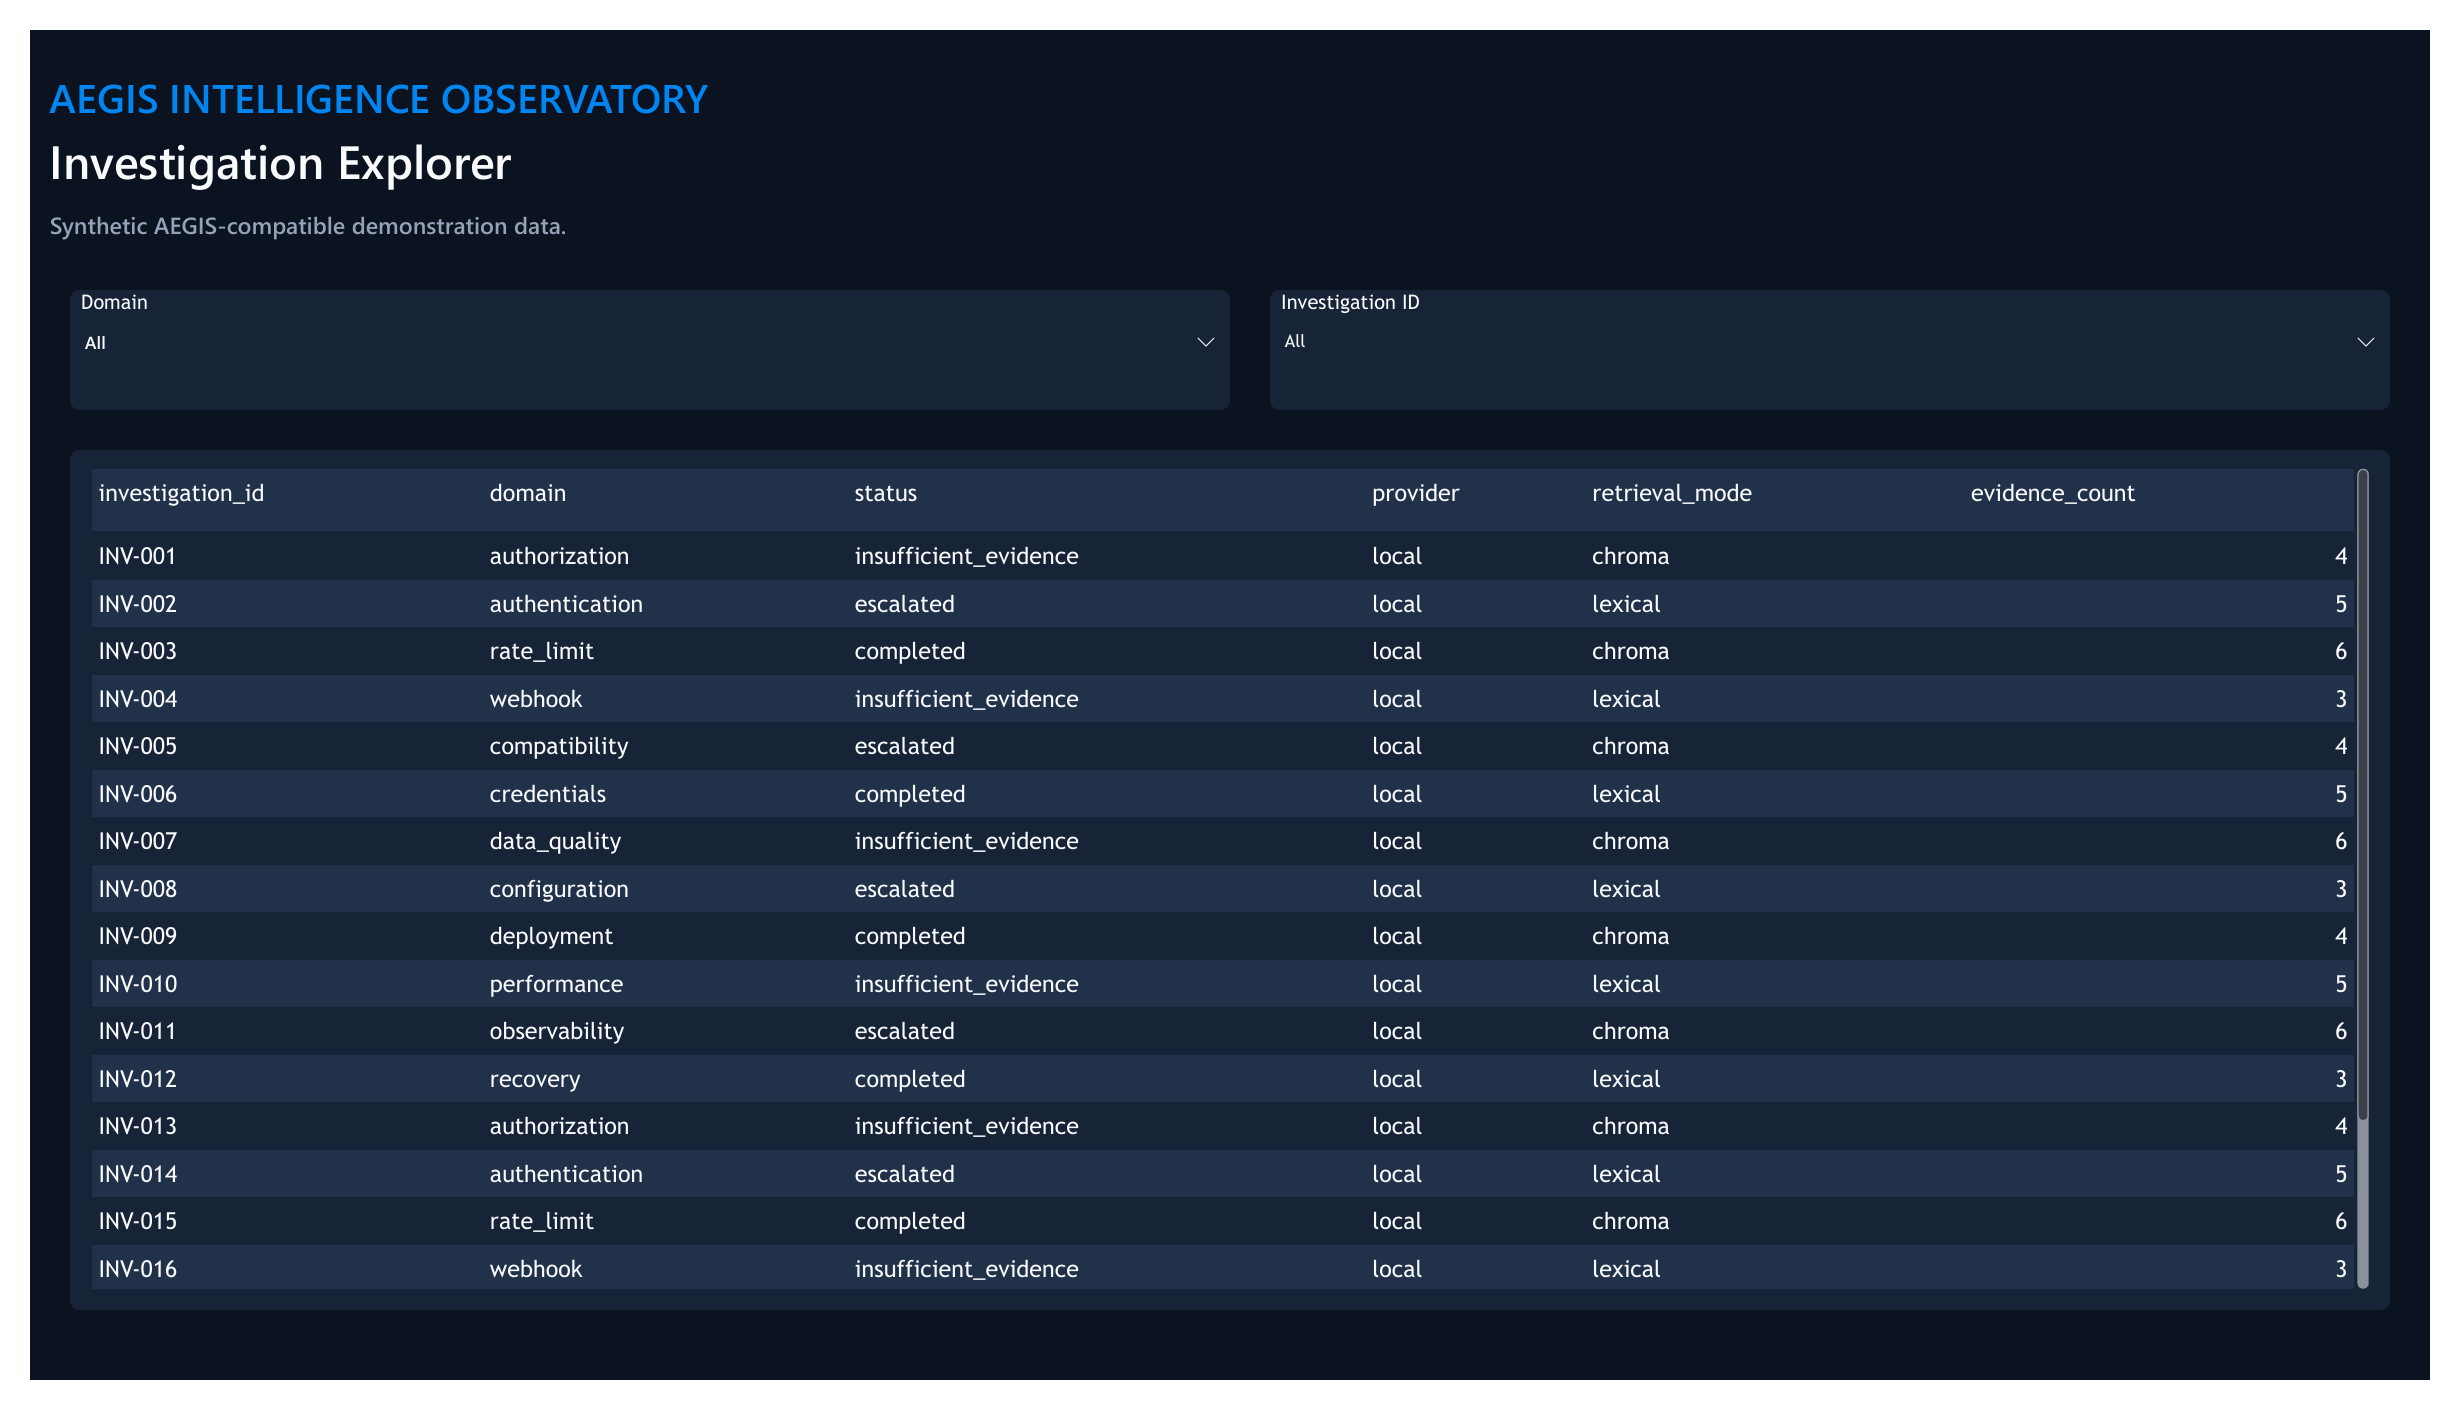

Layout of this report page (visuals, bound fields, positions):
{"tool":"powerbi","page":{"name":"Investigation Explorer","canvas":[1920,1080],"ordinal":3},"visuals":[{"type":"textbox","box":[16,32,544,48],"z":0},{"type":"textbox","box":[16,144,416,32],"z":1000},{"type":"textbox","box":[16,80,448,64],"z":2000},{"type":"slicer","fields":{"Values":["investigations.investigation_id"]},"box":[992,208,896,96],"z":3000},{"type":"slicer","fields":{"Values":["scenarios.domain"]},"box":[32,208,928,96],"z":4000},{"type":"tableEx","title":"Investigation by Retrieval Mode","fields":{"Values":["investigations.investigation_id","scenarios.domain","investigations.status","investigations.provider","investigations.retrieval_mode","investigations.evidence_count"]},"box":[32,336,1856,688],"z":5000}]}

Visuals, with their boxes in screenshot pixels (x1, y1, x2, y2), scaled from the page's 1920x1080 canvas onto the 2460x1410 screenshot:
textbox: (20,42,718,104)
textbox: (20,188,554,230)
textbox: (20,104,594,188)
slicer - investigations.investigation_id: (1271,272,2419,397)
slicer - scenarios.domain: (41,272,1230,397)
"Investigation by Retrieval Mode" tableEx: (41,439,2419,1337)
